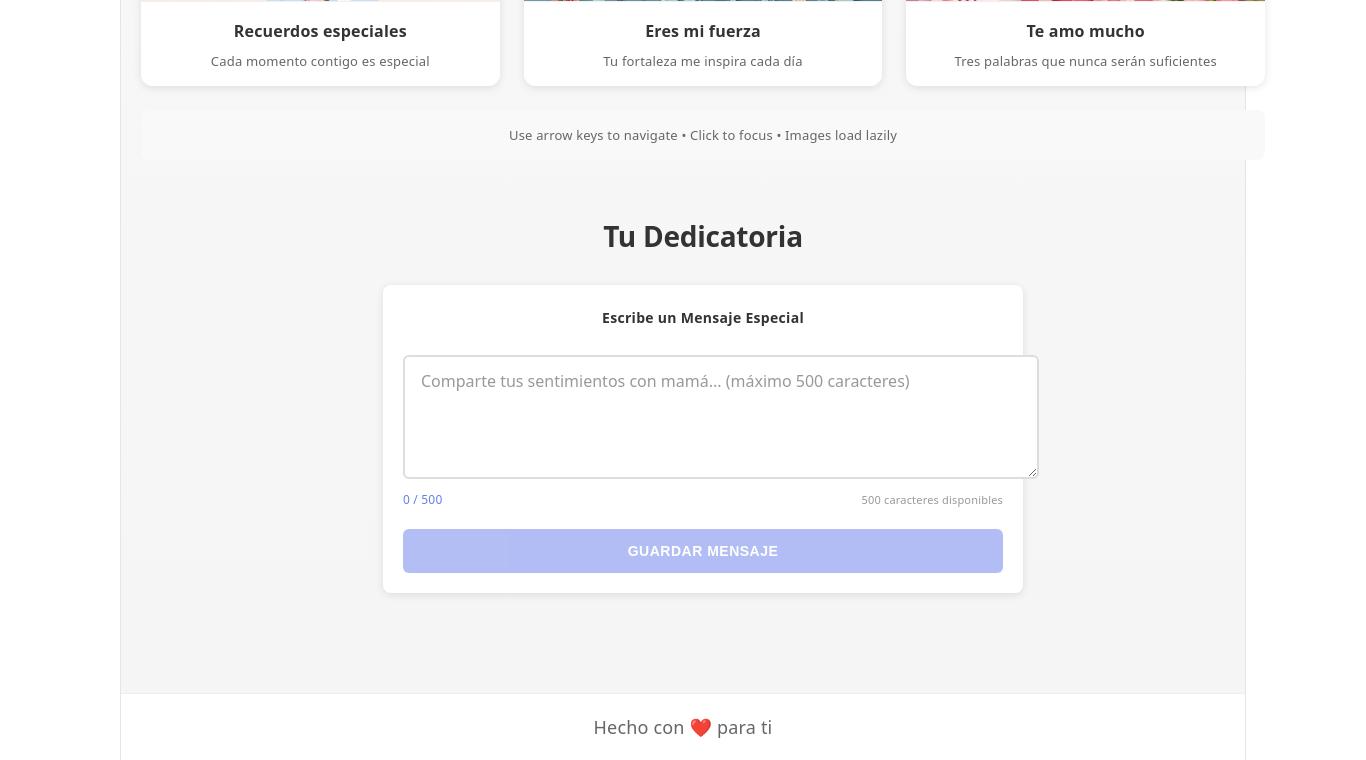
MothersDayPage Integration › T073: Message Form in context › should allow complete message flow
(page scrolled)
# Type message
Type "Te amo mamá" into the text box.
click(721, 417); type("Te amo mamá")  # box left=403, top=355, right=1039, bottom=479
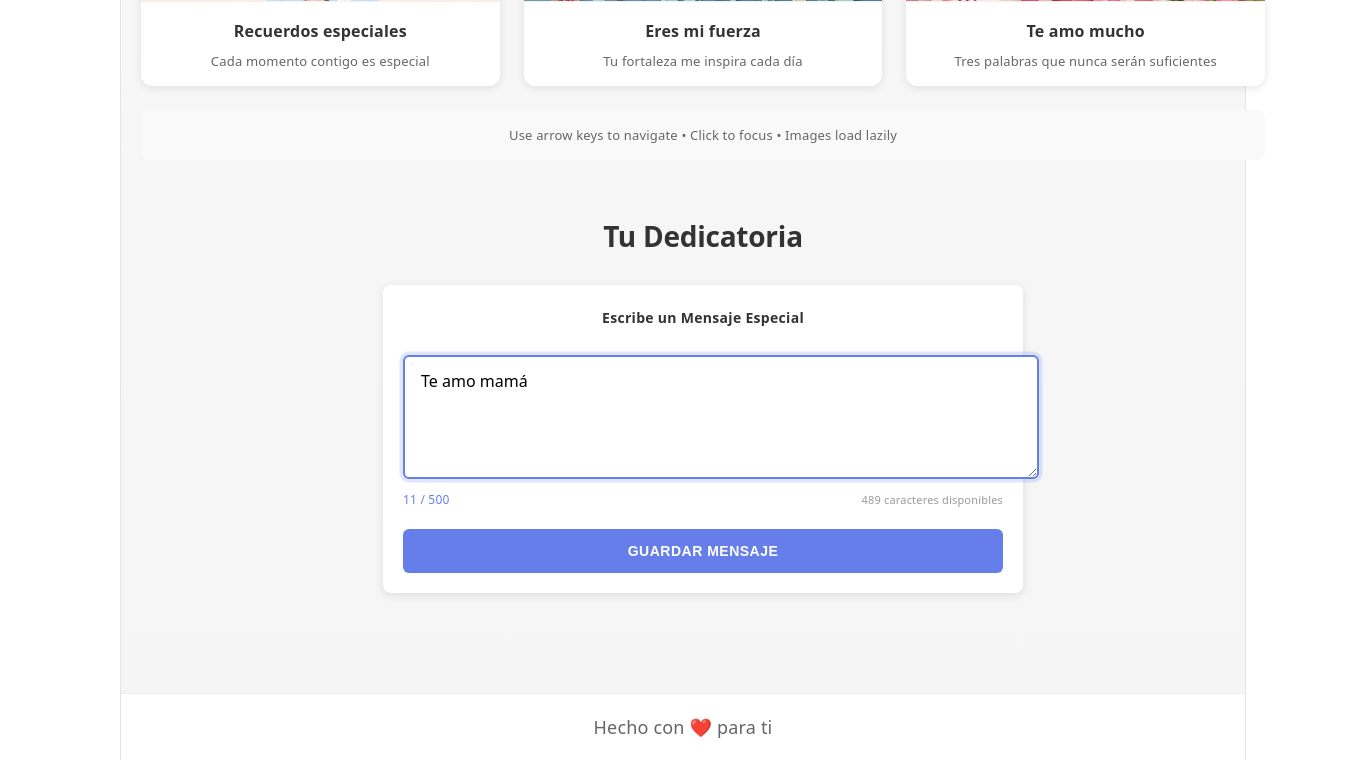
Click the button "Guardar Mensaje".
click(703, 551)  # box left=403, top=529, right=1003, bottom=573
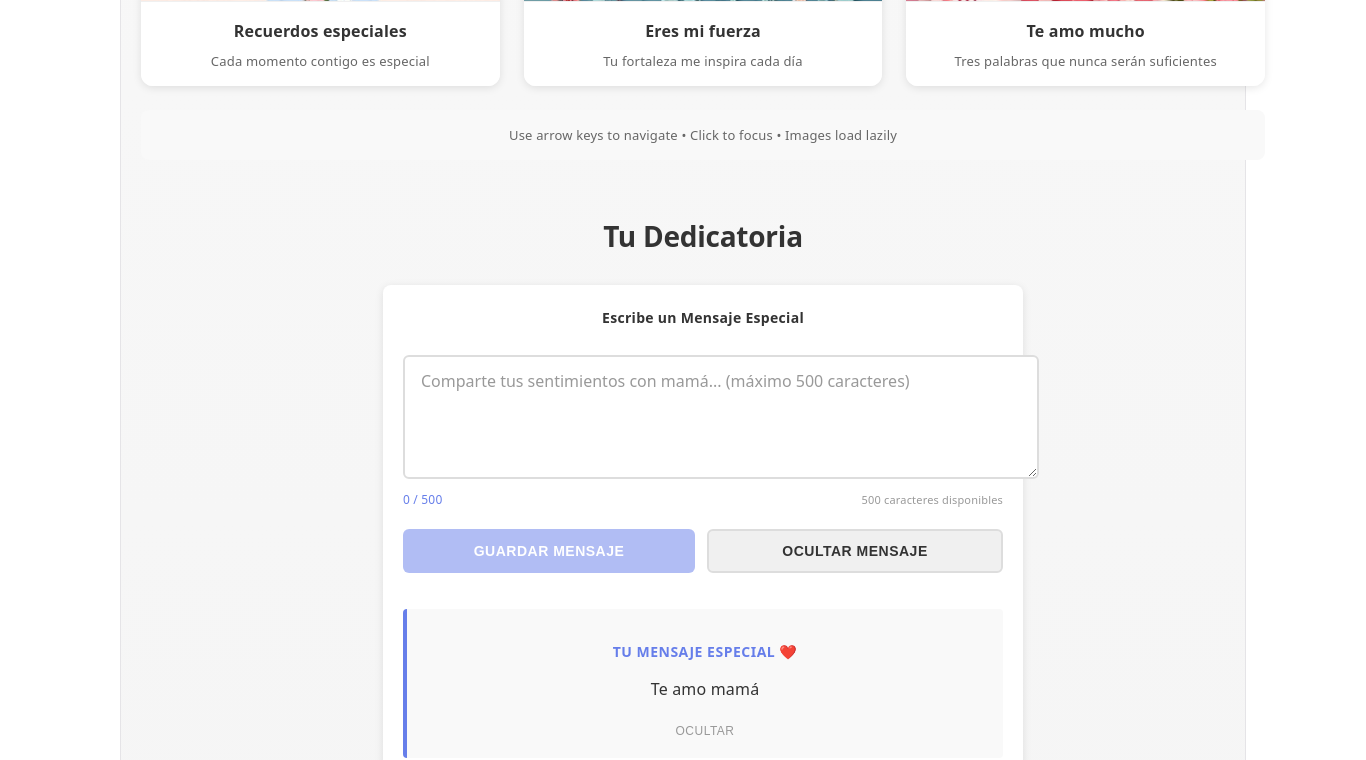
Check: the text "Te amo mamá" is shown, box left=651, top=678, right=759, bottom=700
